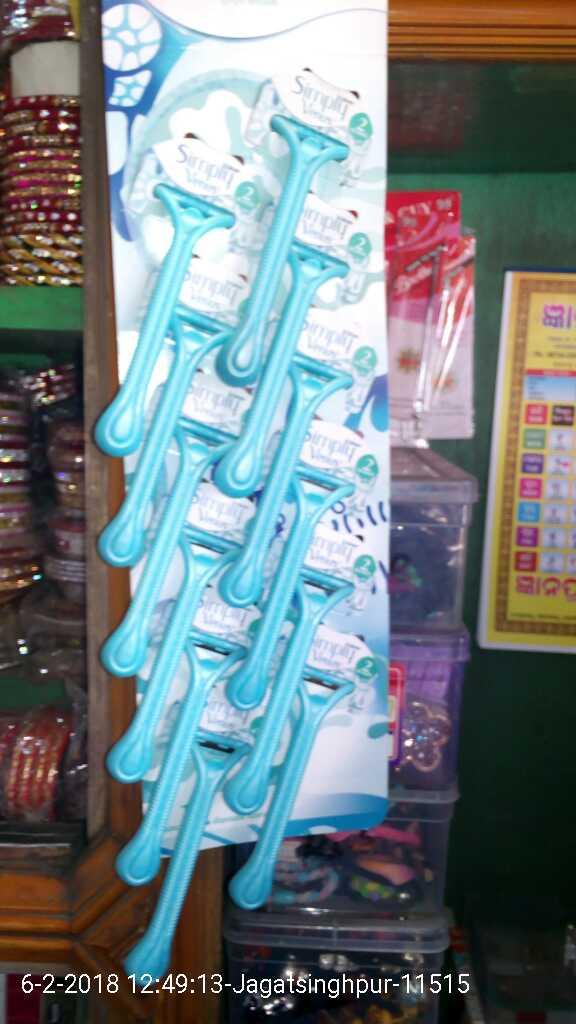reject: (400, 141, 491, 208)
